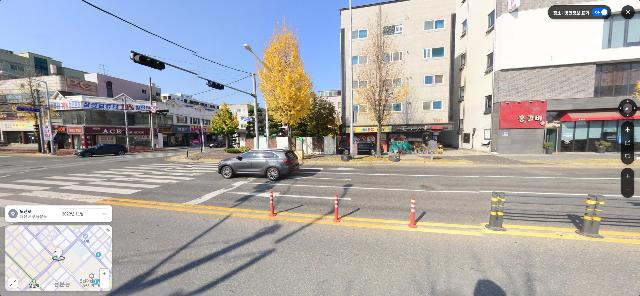ginkgo: (342, 1, 416, 160), (253, 9, 323, 152)
other: (1, 59, 45, 152), (296, 98, 344, 142), (207, 101, 242, 149)
